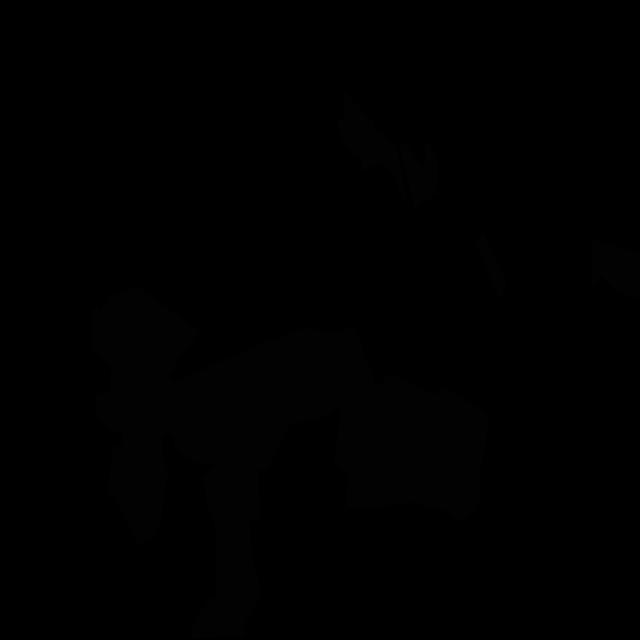cardboard: (91, 286, 376, 639), (334, 373, 490, 522), (335, 116, 409, 209), (592, 239, 640, 299), (398, 137, 438, 209), (475, 231, 507, 301), (343, 91, 374, 135)
